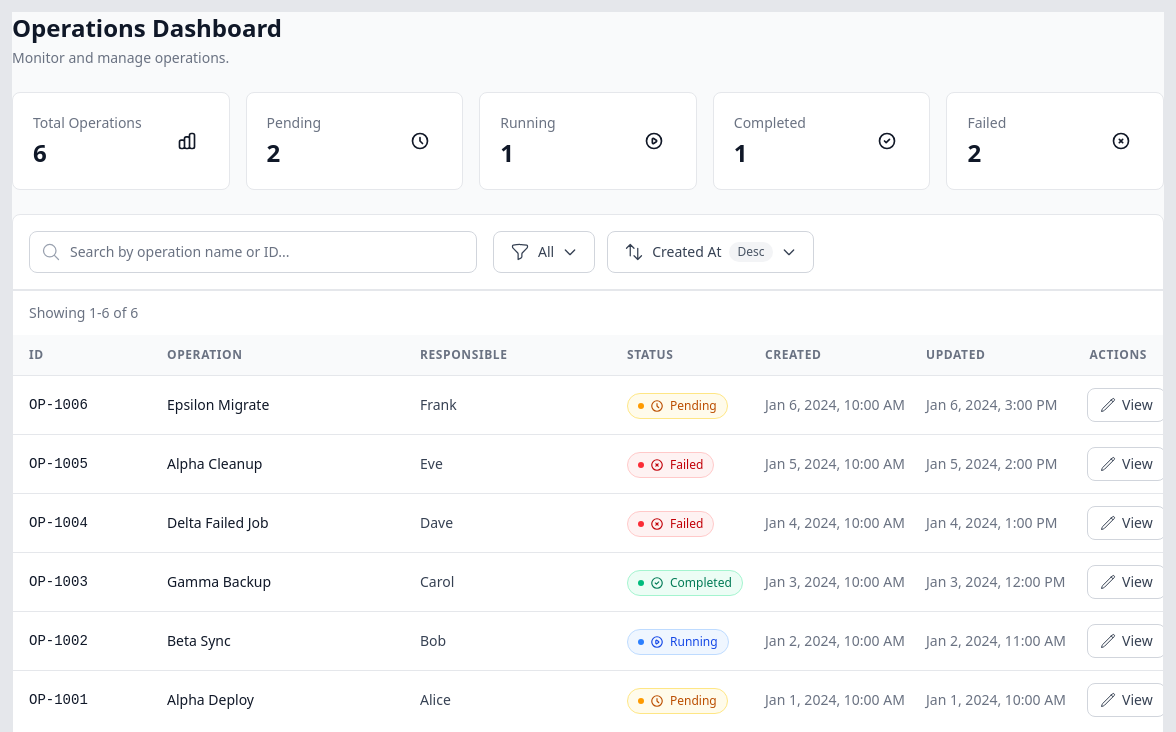
Test: OperationsDashboard › Search + Filter
Check: the text "Alpha Deploy" is shown, box [151,670,404,729]
Check: the text "Delta Failed Job" is shown, box [151,494,404,552]
Type "Alpha" into the search field named "Search operations". click: point(253, 252)
box: [29,231,477,273]
Wait 300 ms
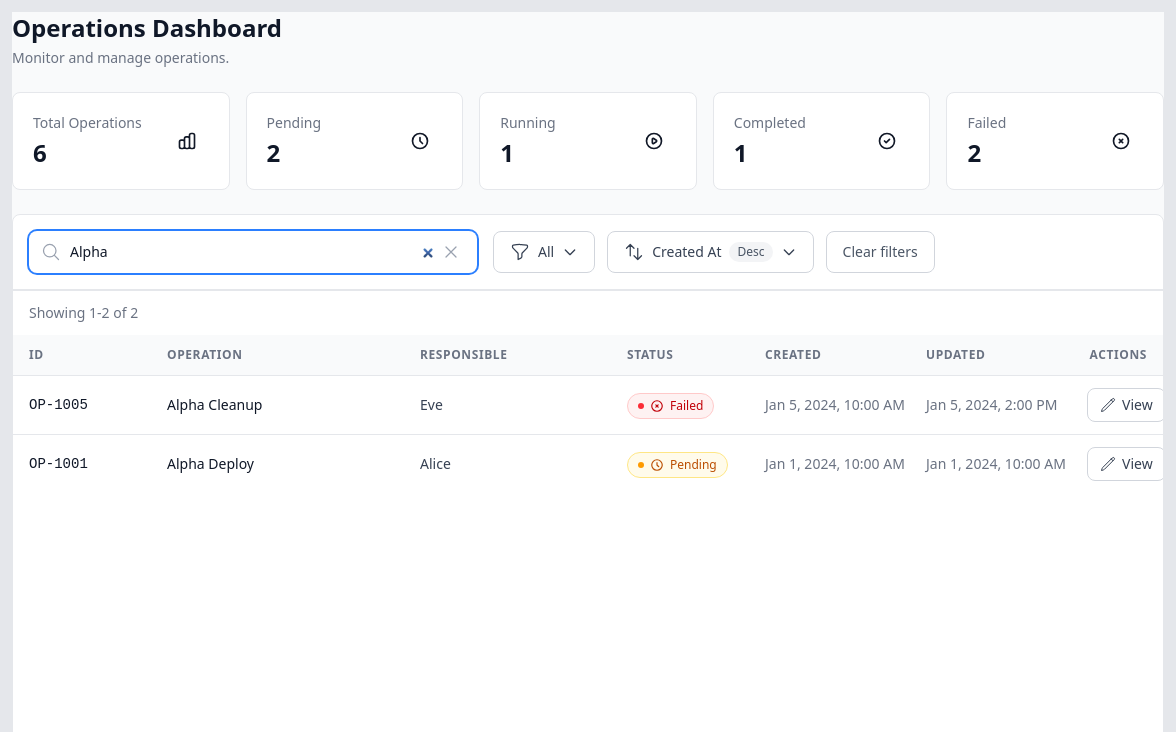
Check: the text "Alpha Deploy" is shown, box [151,434,404,493]
Check: the text "Delta Failed Job" is gone
Click the button with aria-label "Filter by status". click: point(544, 252)
box: [493,231,595,273]
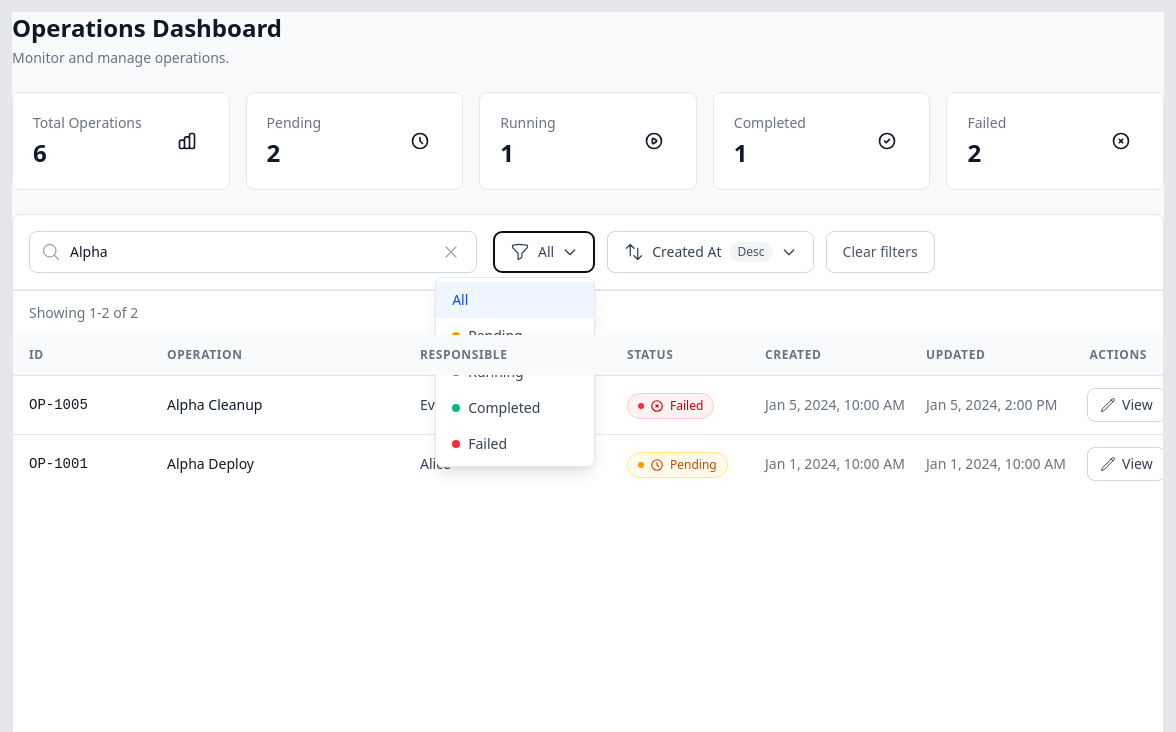
Click the button "Failed". click: point(515, 444)
box: [436,426,594,462]
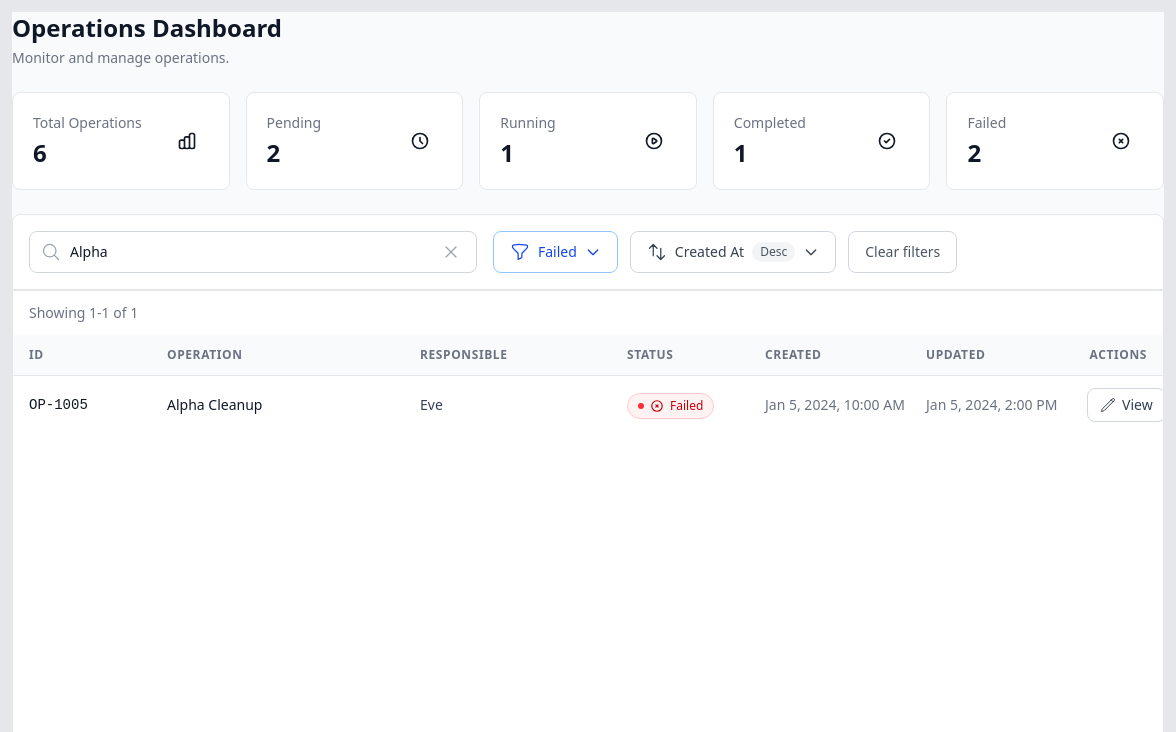
Check: the text "Alpha Cleanup" is shown, box [151,376,404,434]
Check: the text "Alpha Deploy" is gone
Replace the text in the search field named "Search operations" with "1004". click: point(253, 252)
box: [29,231,477,273]
Wait 300 ms
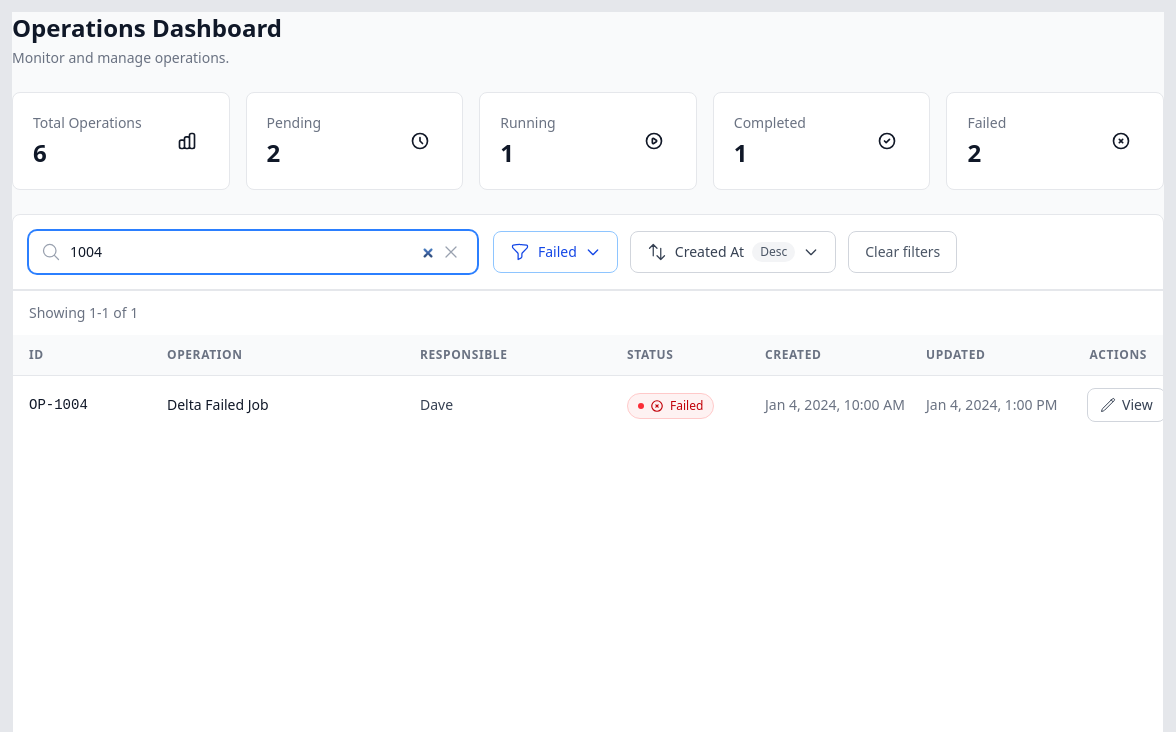
Check: the text "Delta Failed Job" is shown, box [151,376,404,434]
Check: the text "Alpha Cleanup" is gone
Click the button "Clear filters". click: point(903, 252)
box: [848,231,957,273]
Wait 300 ms
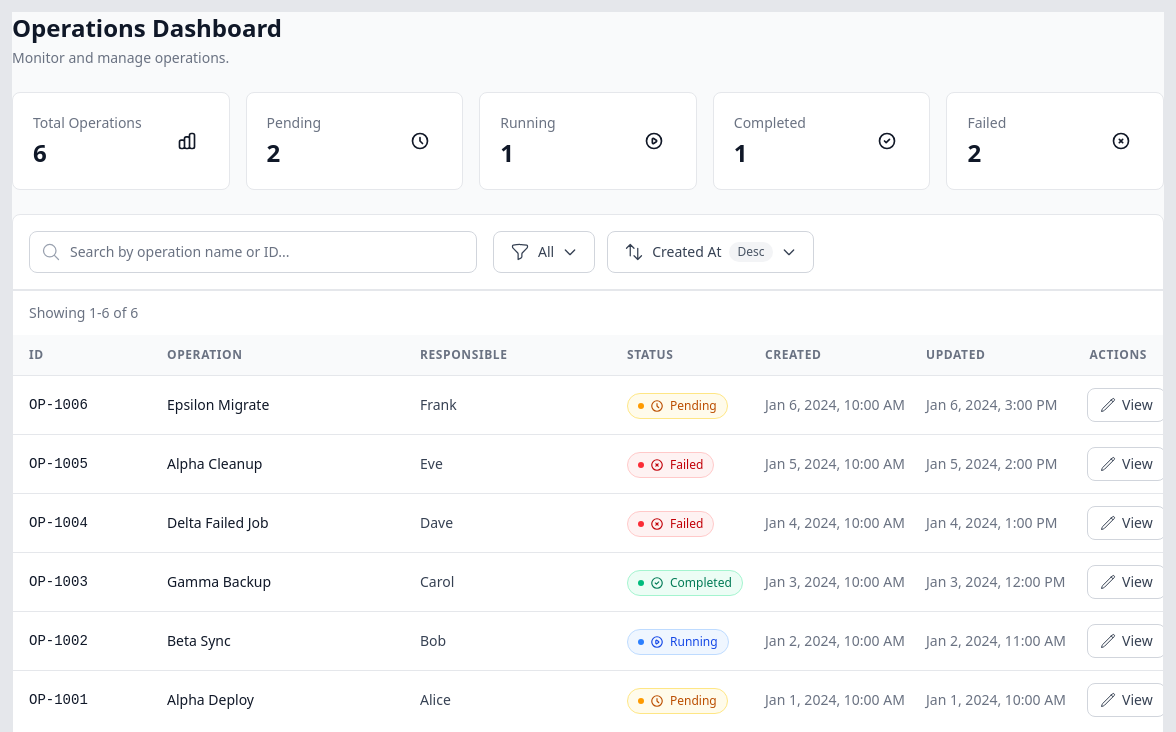
Check: the text "Delta Failed Job" is shown, box [151,494,404,552]
Check: the text "Alpha Deploy" is shown, box [151,670,404,729]
Check: the text "Beta Sync" is shown, box [151,612,404,670]
